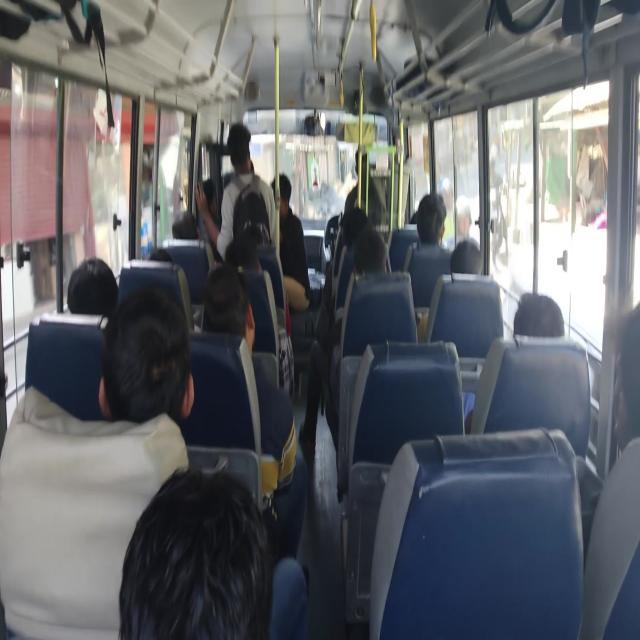person: (118, 465, 308, 639), (200, 262, 308, 559), (580, 301, 639, 638), (298, 207, 368, 454), (463, 291, 565, 431), (98, 285, 194, 428), (195, 122, 280, 265), (403, 192, 452, 310), (270, 173, 311, 311), (612, 301, 639, 452), (66, 256, 118, 316), (344, 149, 386, 222), (512, 291, 564, 338), (353, 226, 389, 278), (446, 194, 479, 250), (415, 192, 447, 248), (449, 238, 484, 275), (171, 210, 199, 240)
